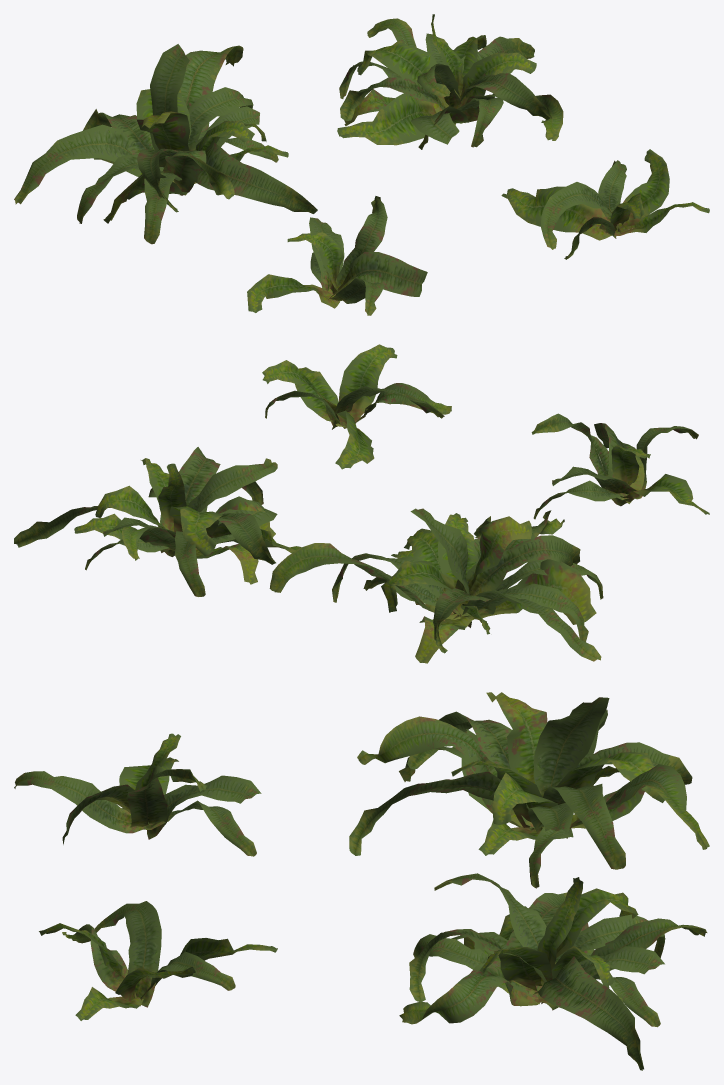
Rendered from fern_02.gltf.
3 renders of one model, top to bottom at view 1: azimuth 30°, elevation 25°; view 2: azimuth 150°, elevation 25°; view 3: azimuth 270°, elevation 25°, orthographic. The views are drawn at different scales.
Visible parts, largest first — view 1: fern_02_b, fern_02_c, fern_02_d, fern_02_a; view 2: fern_02_b, fern_02_c, fern_02_d, fern_02_a; view 3: fern_02_b, fern_02_c, fern_02_a, fern_02_d.
Boxes of the visible parts, x1=… form: fern_02_b: x1=14, y1=44, x2=317, y2=244; fern_02_c: x1=337, y1=14, x2=563, y2=149; fern_02_d: x1=501, y1=149, x2=709, y2=259; fern_02_a: x1=247, y1=196, x2=427, y2=315; fern_02_b: x1=269, y1=508, x2=603, y2=663; fern_02_c: x1=14, y1=447, x2=301, y2=596; fern_02_d: x1=262, y1=344, x2=451, y2=469; fern_02_a: x1=531, y1=413, x2=709, y2=519; fern_02_b: x1=349, y1=692, x2=709, y2=888; fern_02_c: x1=399, y1=873, x2=707, y2=1070; fern_02_a: x1=14, y1=733, x2=261, y2=856; fern_02_d: x1=39, y1=901, x2=277, y2=1020.
Bounding box in the file's own units: 1.97 × 0.4277 × 1.72.
Materials: 1 (1 with a texture image).
